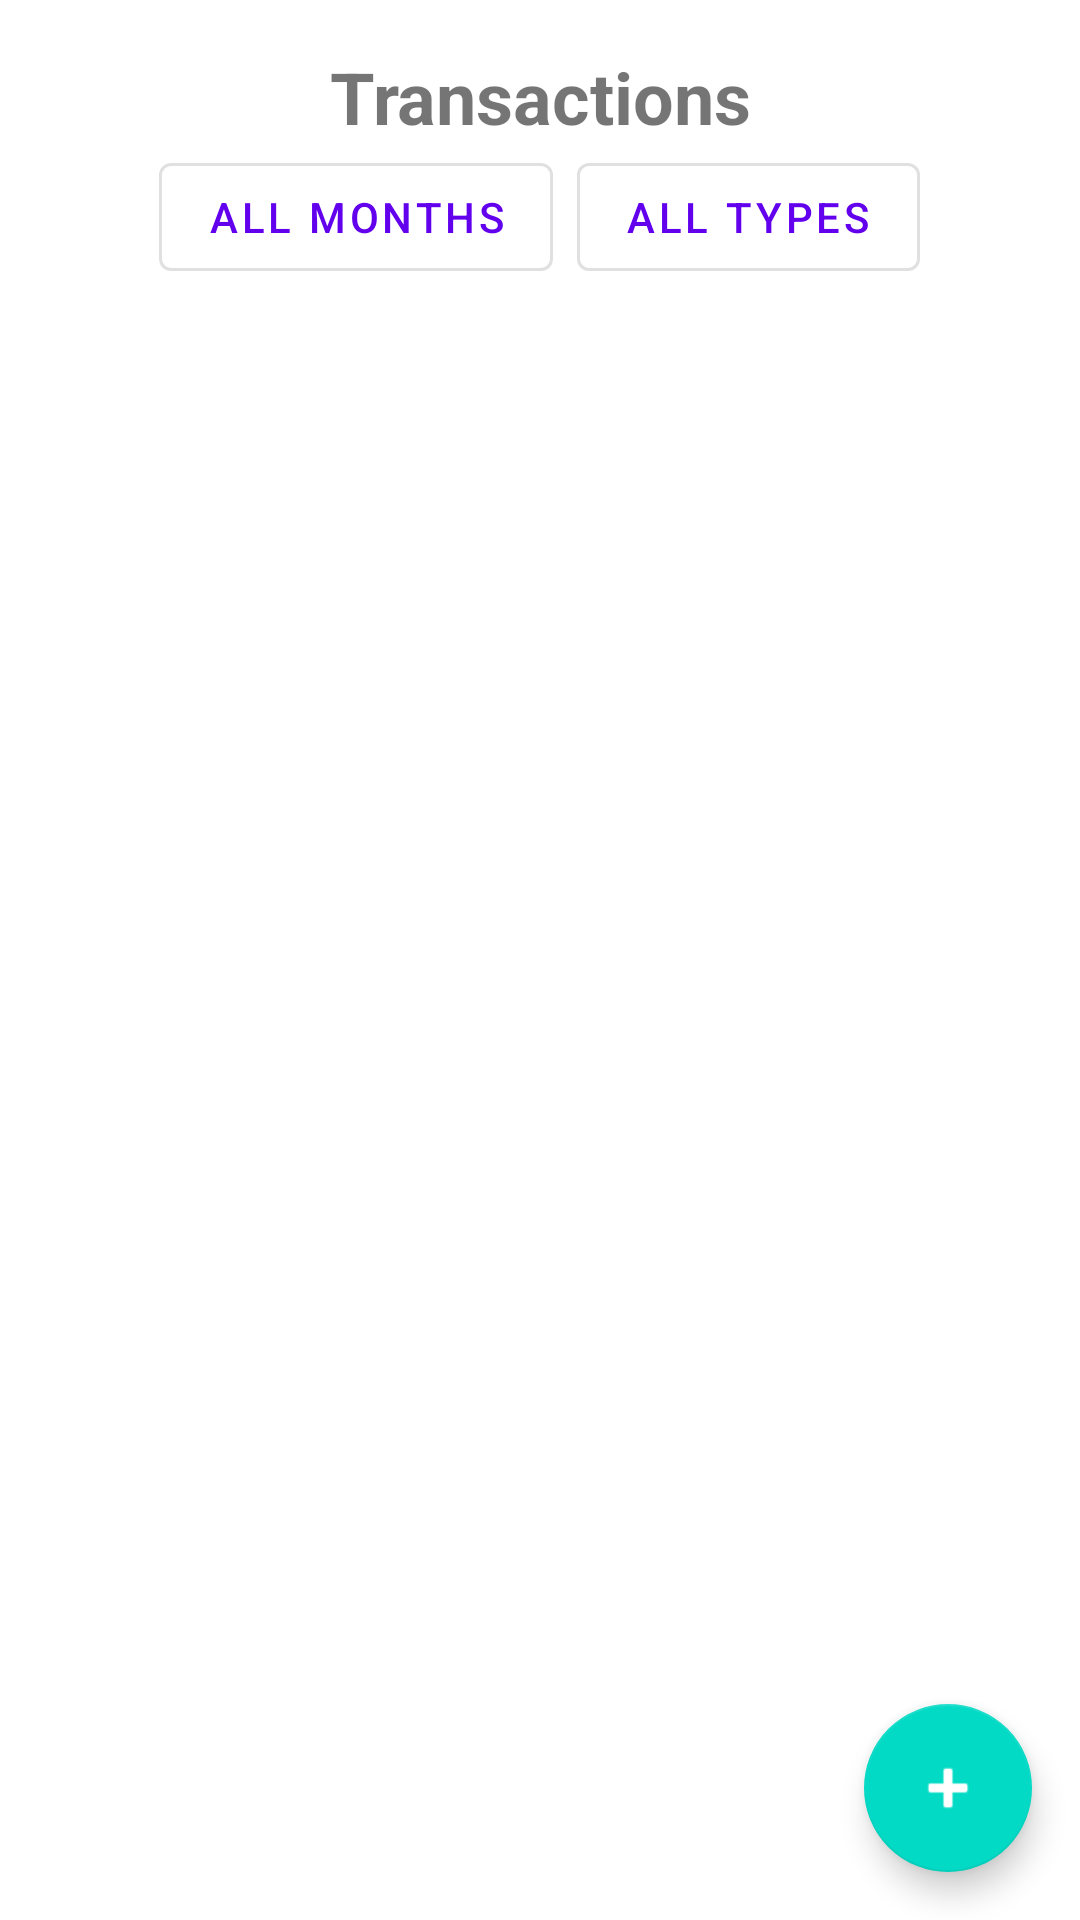

Icons on this 1080x1920 Android screen, each with the point to tap as (x=x, y=y):
Add new transaction: (x=948, y=1788)
